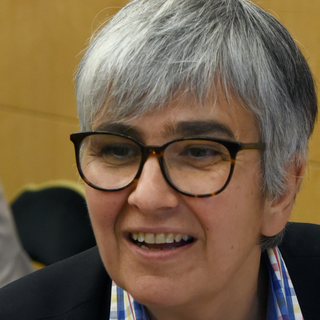eye: (174, 141, 227, 167), (96, 139, 139, 166)
